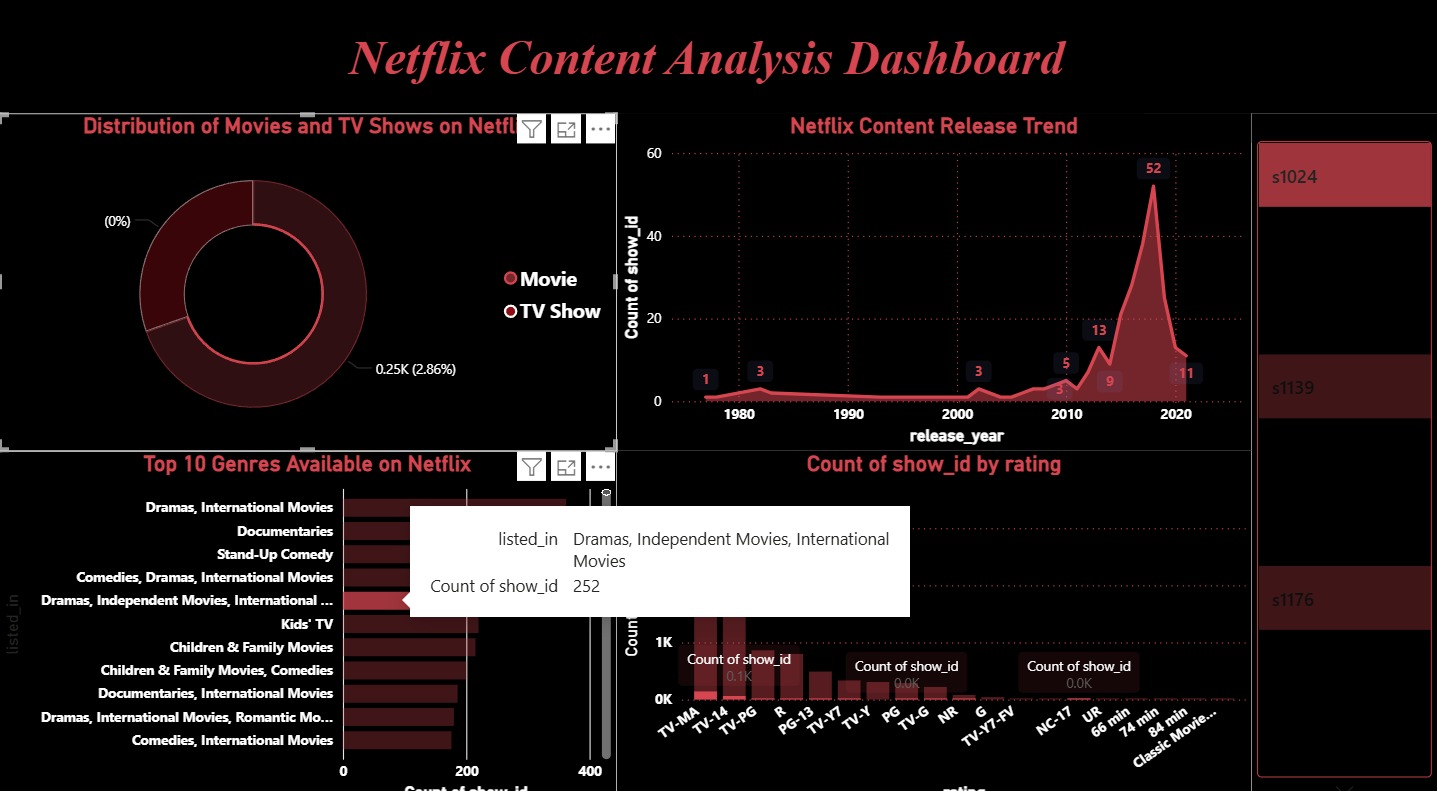

The dashboard page shown, as its layout file describes it:
{"tool":"powerbi","page":{"name":"Page 1","canvas":[1280,720],"ordinal":0},"visuals":[{"type":"donutChart","title":"Distribution of Movies and TV Shows on Netflix","fields":{"Category":["netflix_titles.type"],"Y":["CountNonNull(netflix_titles.show_id)"]},"box":[0,102.9,550,300],"z":0},{"type":"lineChart","title":"Netflix Content Release Trend","fields":{"Y":["CountNonNull(netflix_titles.show_id)"],"Category":["netflix_titles.release_year"]},"box":[550,102.9,564.3,300],"z":1000},{"type":"clusteredBarChart","title":"Top 10 Genres Available on Netflix","fields":{"Y":["CountNonNull(netflix_titles.show_id)"],"Category":["netflix_titles.listed_in"]},"box":[0,402.9,550,317.1],"z":2000},{"type":"clusteredColumnChart","fields":{"Category":["netflix_titles.rating"],"Y":["CountNonNull(netflix_titles.show_id)"]},"box":[550,402.9,564.3,317.1],"z":3000},{"type":"cardVisual","fields":{"Rows":["netflix_titles.show_id"]},"box":[1114.3,102.9,165.7,617.1],"z":4000},{"type":"textbox","box":[0,0,1280,102.9],"z":5000}]}

Visuals, with their boxes in screenshot pixels (x1, y1, x2, y2), scaled from the page's 1280x720 canvas onto the 1437x791 screenshot:
"Distribution of Movies and TV Shows on Netflix" donutChart: bbox=[0, 113, 617, 443]
"Netflix Content Release Trend" lineChart: bbox=[617, 113, 1251, 443]
"Top 10 Genres Available on Netflix" clusteredBarChart: bbox=[0, 443, 617, 790]
clusteredColumnChart - netflix_titles.rating x CountNonNull(netflix_titles.show_id): bbox=[617, 443, 1251, 790]
cardVisual - netflix_titles.show_id: bbox=[1251, 113, 1436, 790]
textbox: bbox=[0, 0, 1436, 113]
